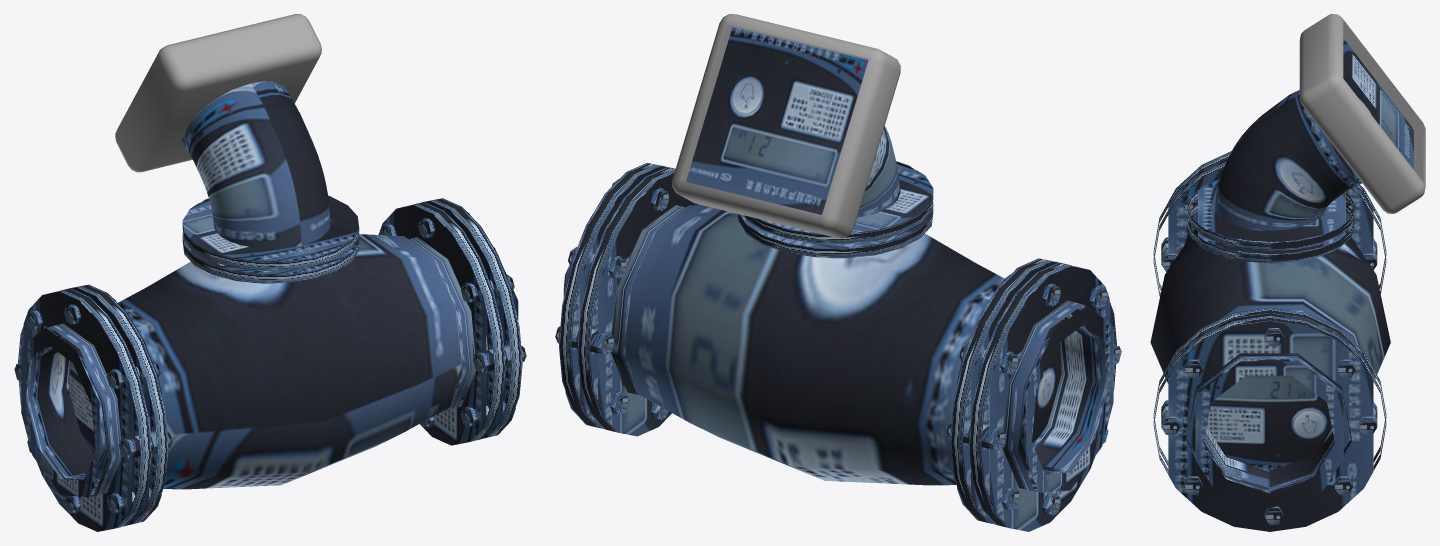
File: heat_flux_meter.obj
The picture shows the model from 3 angles, left to right: view 1: azimuth 30°, elevation 25°; view 2: azimuth 150°, elevation 25°; view 3: azimuth 270°, elevation 25°; orthographic projection. The views are drawn at different scales.
Parts seen in each view (by area): view 1: __, __.1, ___, __.2, ___1; view 2: __, ___, __.1, __.2, ___1; view 3: __, __.2, ___, __.1, ___2.
Part boxes in pixels (x1=…): __: x1=17, y1=81, x2=518, y2=531; __.1: x1=19, y1=211, x2=523, y2=513; ___: x1=115, y1=14, x2=321, y2=172; __.2: x1=60, y1=198, x2=522, y2=525; ___1: x1=14, y1=138, x2=482, y2=513; __: x1=563, y1=126, x2=1117, y2=531; ___: x1=672, y1=14, x2=900, y2=238; __.1: x1=558, y1=181, x2=1116, y2=515; __.2: x1=559, y1=163, x2=1071, y2=524; ___1: x1=603, y1=190, x2=1121, y2=515; __: x1=1150, y1=90, x2=1390, y2=508; __.2: x1=1153, y1=161, x2=1386, y2=531; ___: x1=1299, y1=14, x2=1425, y2=213; __.1: x1=1161, y1=196, x2=1377, y2=516; ___2: x1=1161, y1=201, x2=1376, y2=524.
Size of the model in its own units: 238 by 229 by 143.
